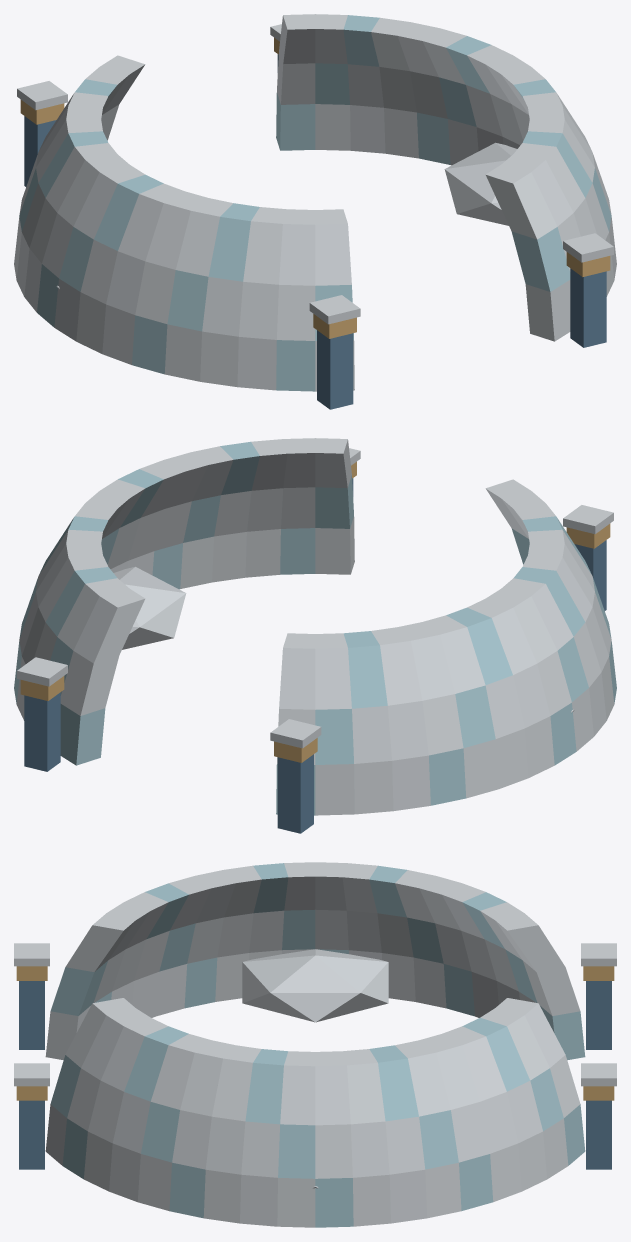
File: Frosty_IglooPassage_Showcase.glb
The picture shows the model from 3 angles, top to bottom: view 1: azimuth 30°, elevation 25°; view 2: azimuth 150°, elevation 25°; view 3: azimuth 270°, elevation 25°; orthographic projection. The views are drawn at different scales.
Parts seen in each view (by area): view 1: Frosty_IglooPassage_Showcase; view 2: Frosty_IglooPassage_Showcase; view 3: Frosty_IglooPassage_Showcase.
Boxes of the visible parts, box(x1,y1,x2,y2) form: Frosty_IglooPassage_Showcase: box(14, 14, 616, 409); Frosty_IglooPassage_Showcase: box(14, 438, 616, 833); Frosty_IglooPassage_Showcase: box(14, 862, 616, 1227).
Bounding box in the file's own units: 6.8 × 1.8 × 7.02.
